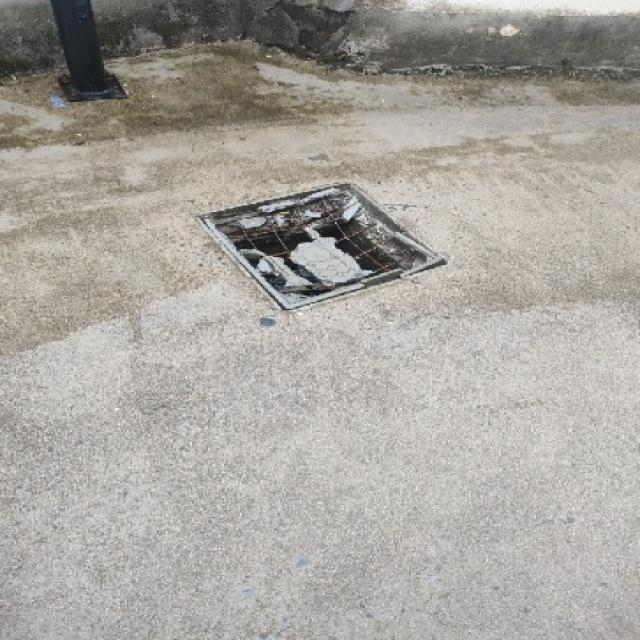Faulty: (170, 178, 487, 324)
